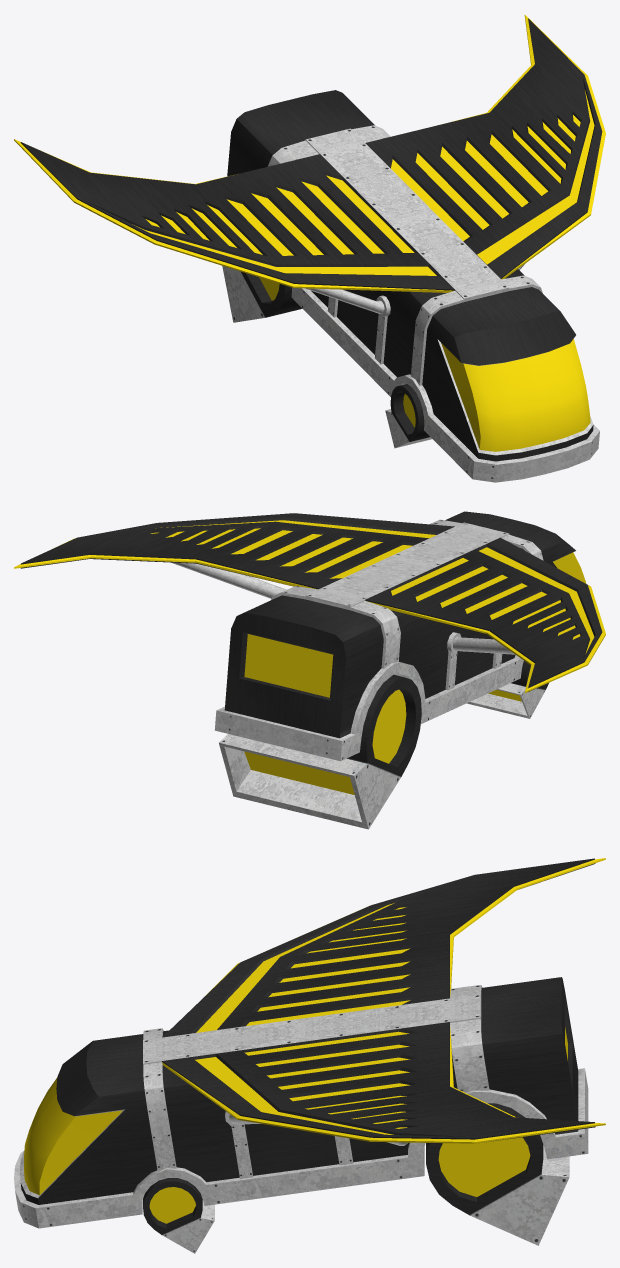
Rendered from TheBus.fbx.
3 renders of one model, top to bottom at view 1: azimuth 30°, elevation 25°; view 2: azimuth 150°, elevation 25°; view 3: azimuth 270°, elevation 25°, orthographic. The views are drawn at different scales.
Parts seen in each view (by area): view 1: Body, Back_Thrust, FrontThrust, pipe1; view 2: Body, Back_Thrust, FrontThrust, pipe4, pipe2; view 3: Body, Back_Thrust, FrontThrust.
Boxes of the visible parts, <box> form: Body: <box>14,15,605,482</box>; Back_Thrust: <box>222,266,302,322</box>; FrontThrust: <box>385,384,431,448</box>; pipe1: <box>305,288,390,317</box>; Body: <box>14,511,605,761</box>; Back_Thrust: <box>219,674,421,829</box>; FrontThrust: <box>467,661,548,718</box>; pipe4: <box>171,562,286,598</box>; pipe2: <box>447,632,514,654</box>; Body: <box>14,858,605,1228</box>; Back_Thrust: <box>426,1103,569,1245</box>; FrontThrust: <box>143,1178,214,1253</box>.
Size of the model in its own units: 5.95 by 2.37 by 5.58.
